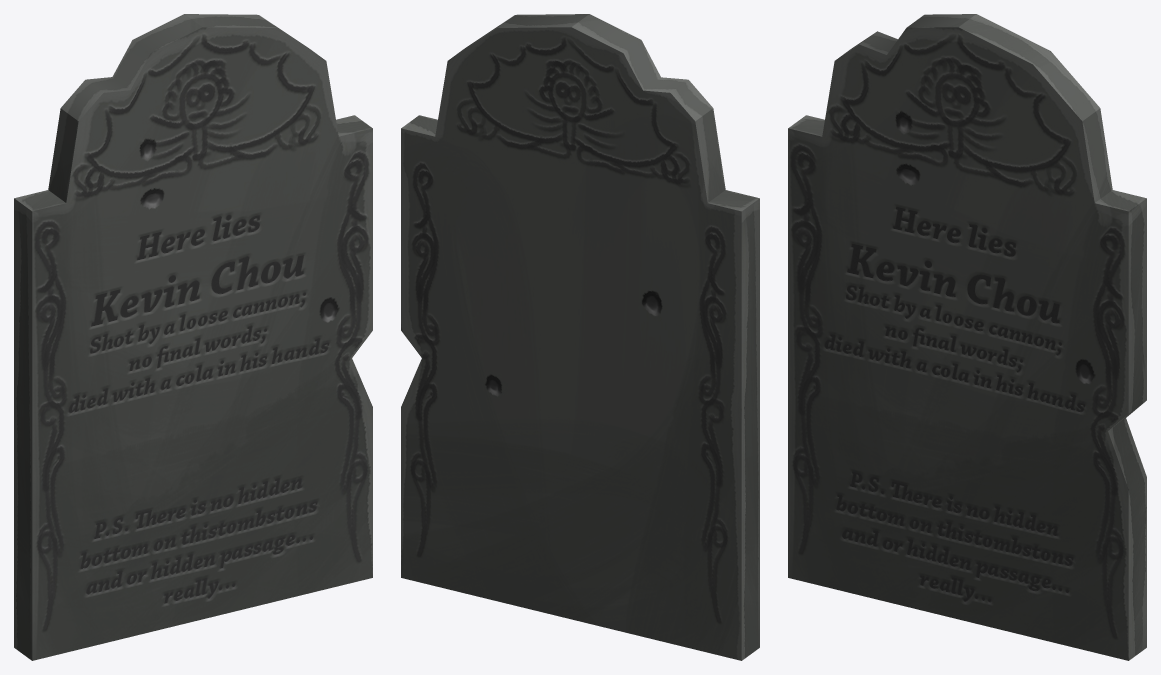
File: KevinsGrave_Geo.fbx
The picture shows the model from 3 angles, left to right: view 1: azimuth 30°, elevation 25°; view 2: azimuth 150°, elevation 25°; view 3: azimuth 330°, elevation 25°; orthographic projection.
Visible parts, largest first — view 1: KevinsGrave_Geo; view 2: KevinsGrave_Geo; view 3: KevinsGrave_Geo.
Boxes of the visible parts, x1,y1,x2,y2 form: KevinsGrave_Geo: (14,14,372,660); KevinsGrave_Geo: (401,14,759,660); KevinsGrave_Geo: (788,14,1146,660).
Size of the model in its own units: 110 by 183 by 10.23.
